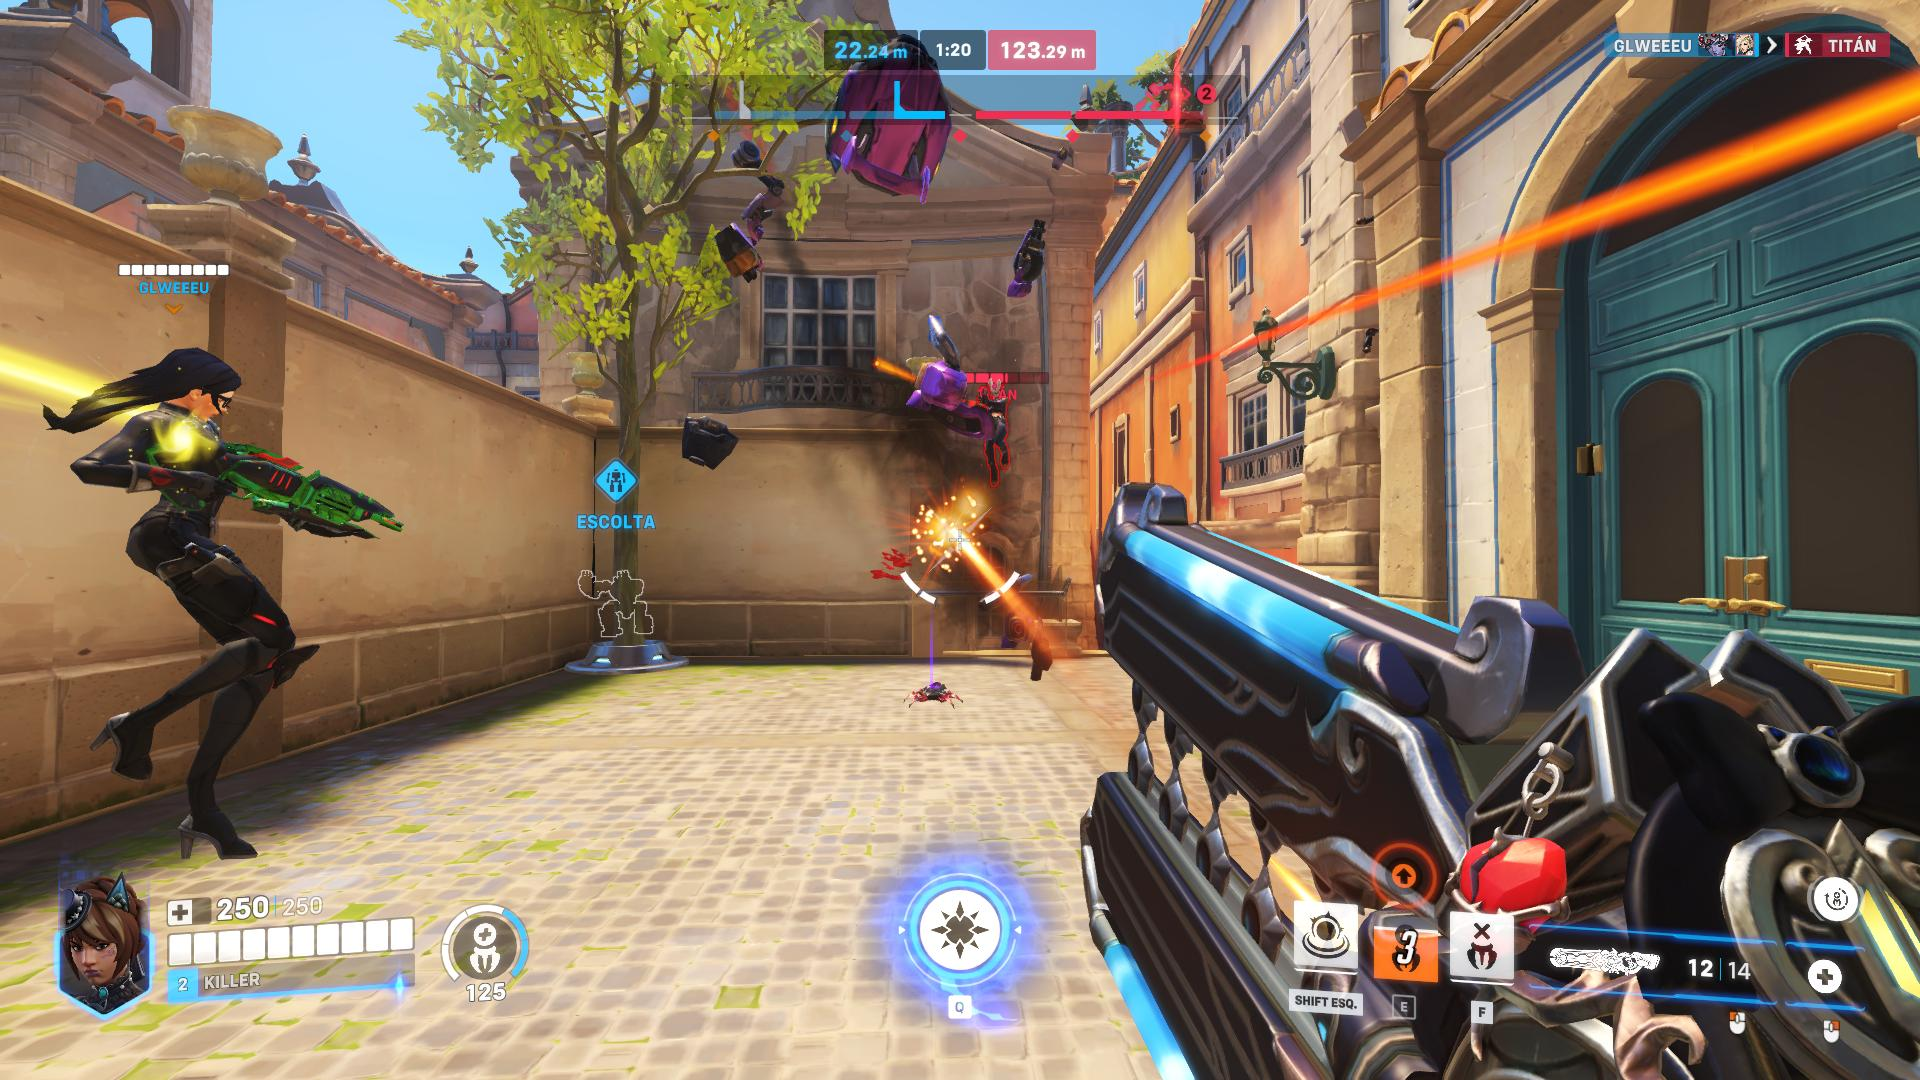enemy: (977, 380, 1011, 488)
